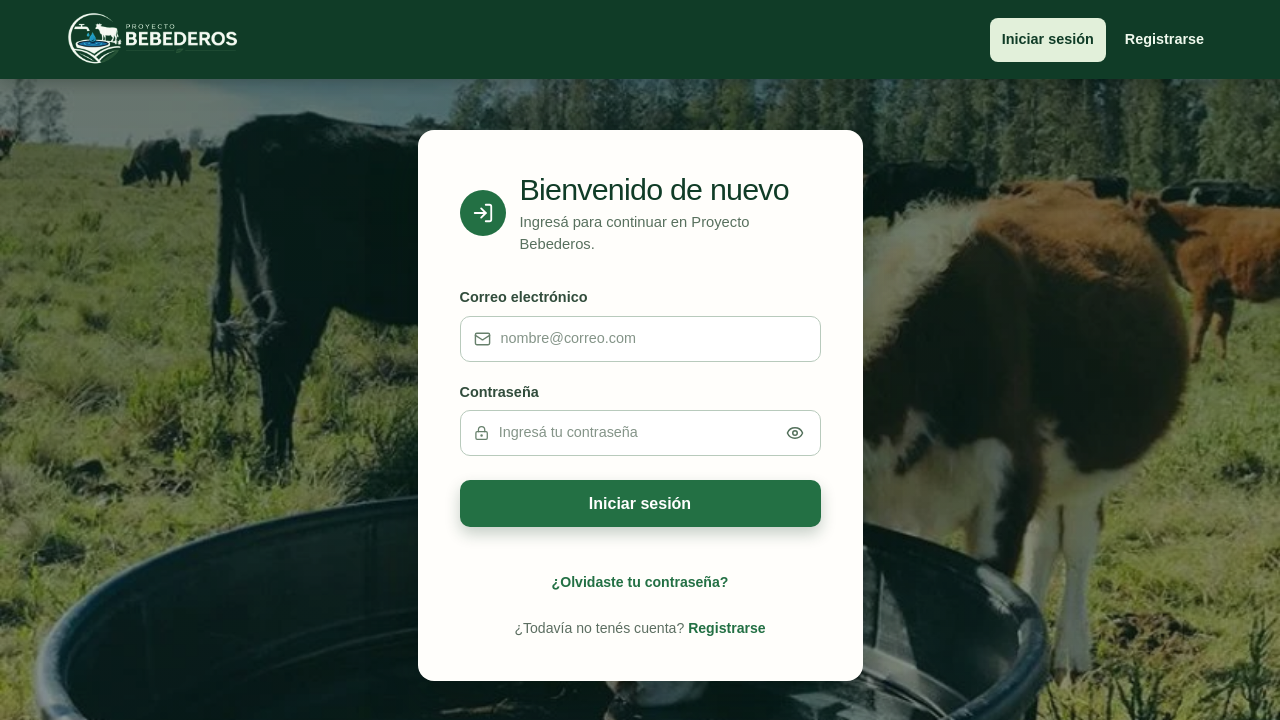
Scenario: un correo sin verificar ofrece reenviar el enlace y no conserva la contraseña
The image size is (1280, 720).
Type "ana@test.invalid" into the field labelled "Correo electrónico" at (648, 339), box [490,328,806,349]
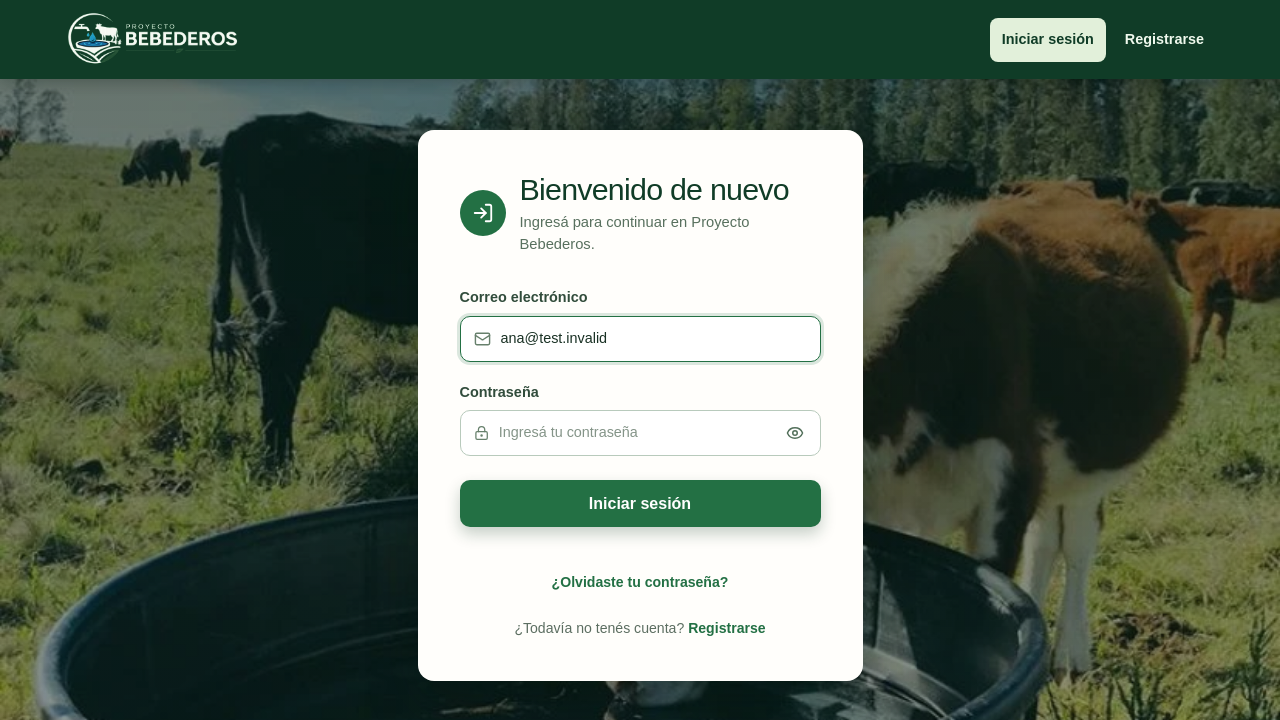
Type "clave-segura-10" into the password field labelled "Contraseña" at (631, 433), box [489,422,772,444]
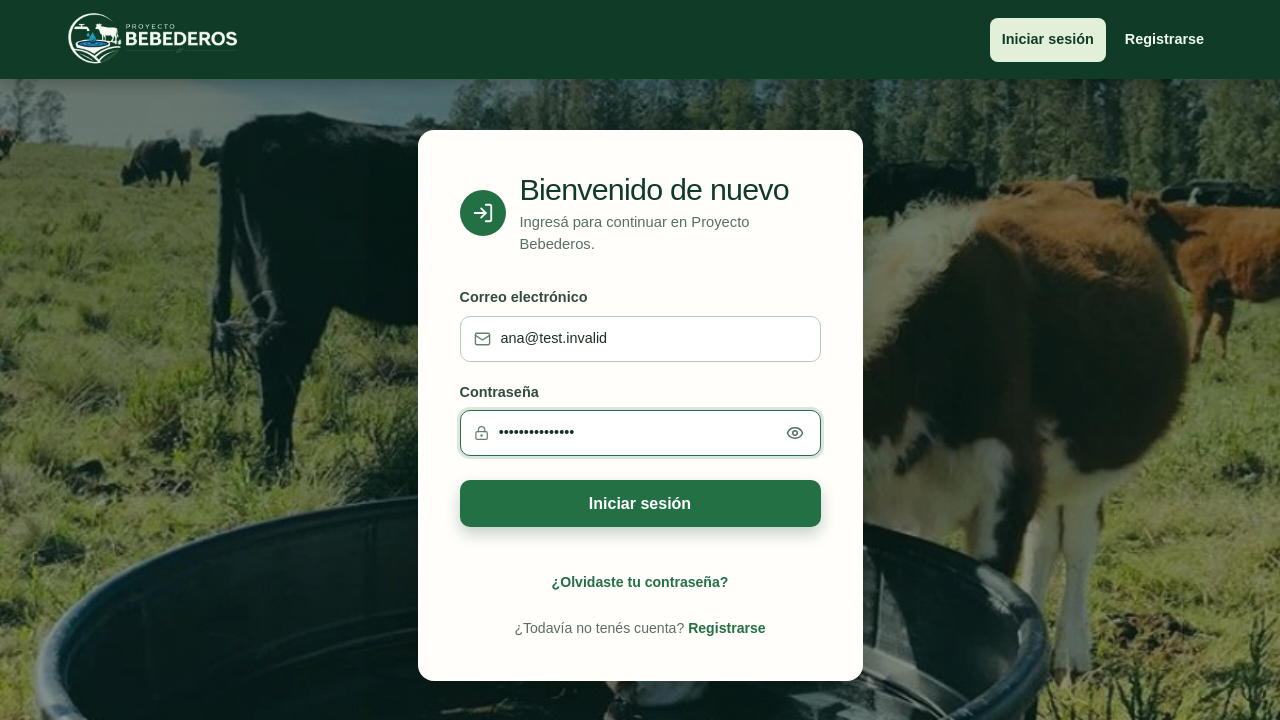
Click the button "Iniciar sesión" at (640, 504), box [460,480,820,527]
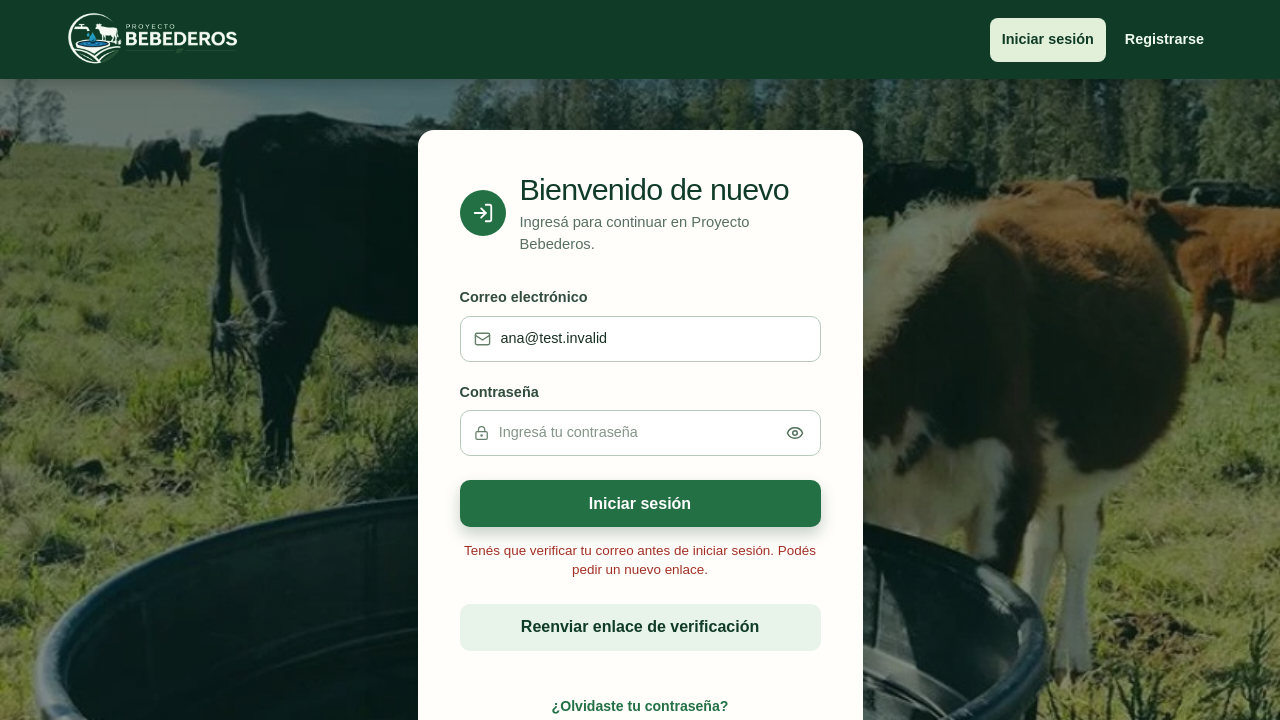
Result: the text "verificar tu correo" is shown at [464,543,816,577]
Result: the password field labelled "Contraseña" is empty at [489,422,772,444]
Click the button "Reenviar enlace de verificación" at (640, 627), box [460,604,820,651]
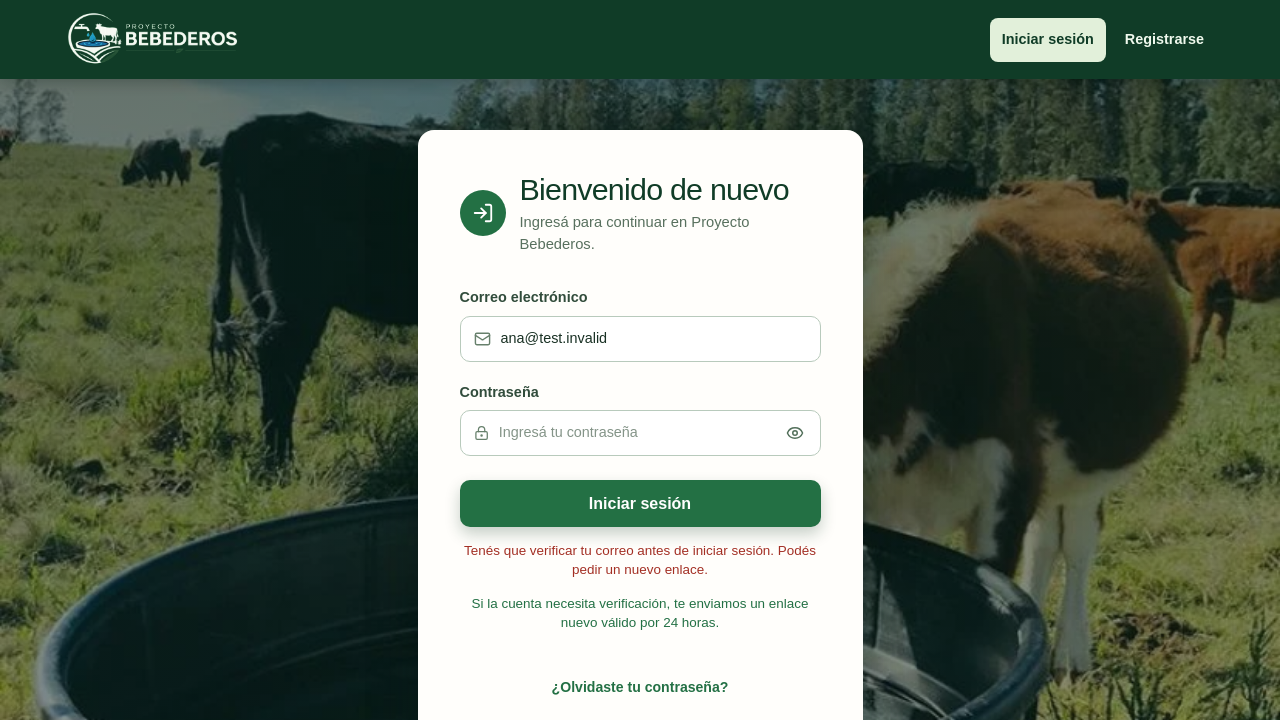
Result: the text "te enviamos un enlace nuevo" is shown at [472,596,808,630]
